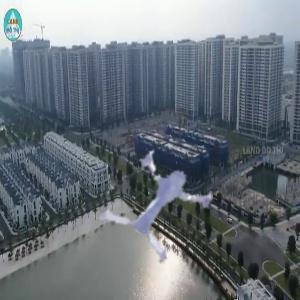drone: (97, 126, 236, 265)
